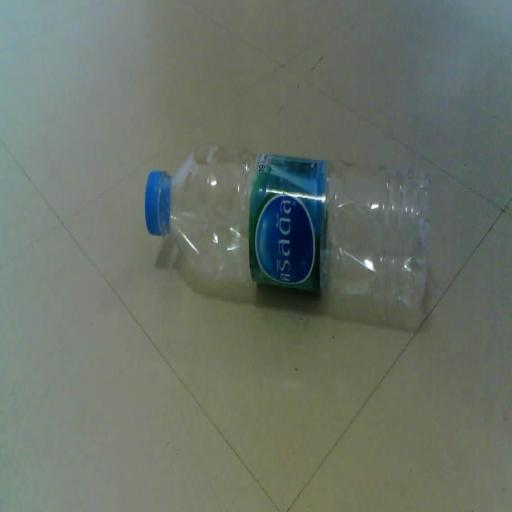bottle: (115, 132, 453, 326)
